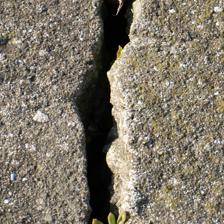Crack: (33, 2, 116, 221)
